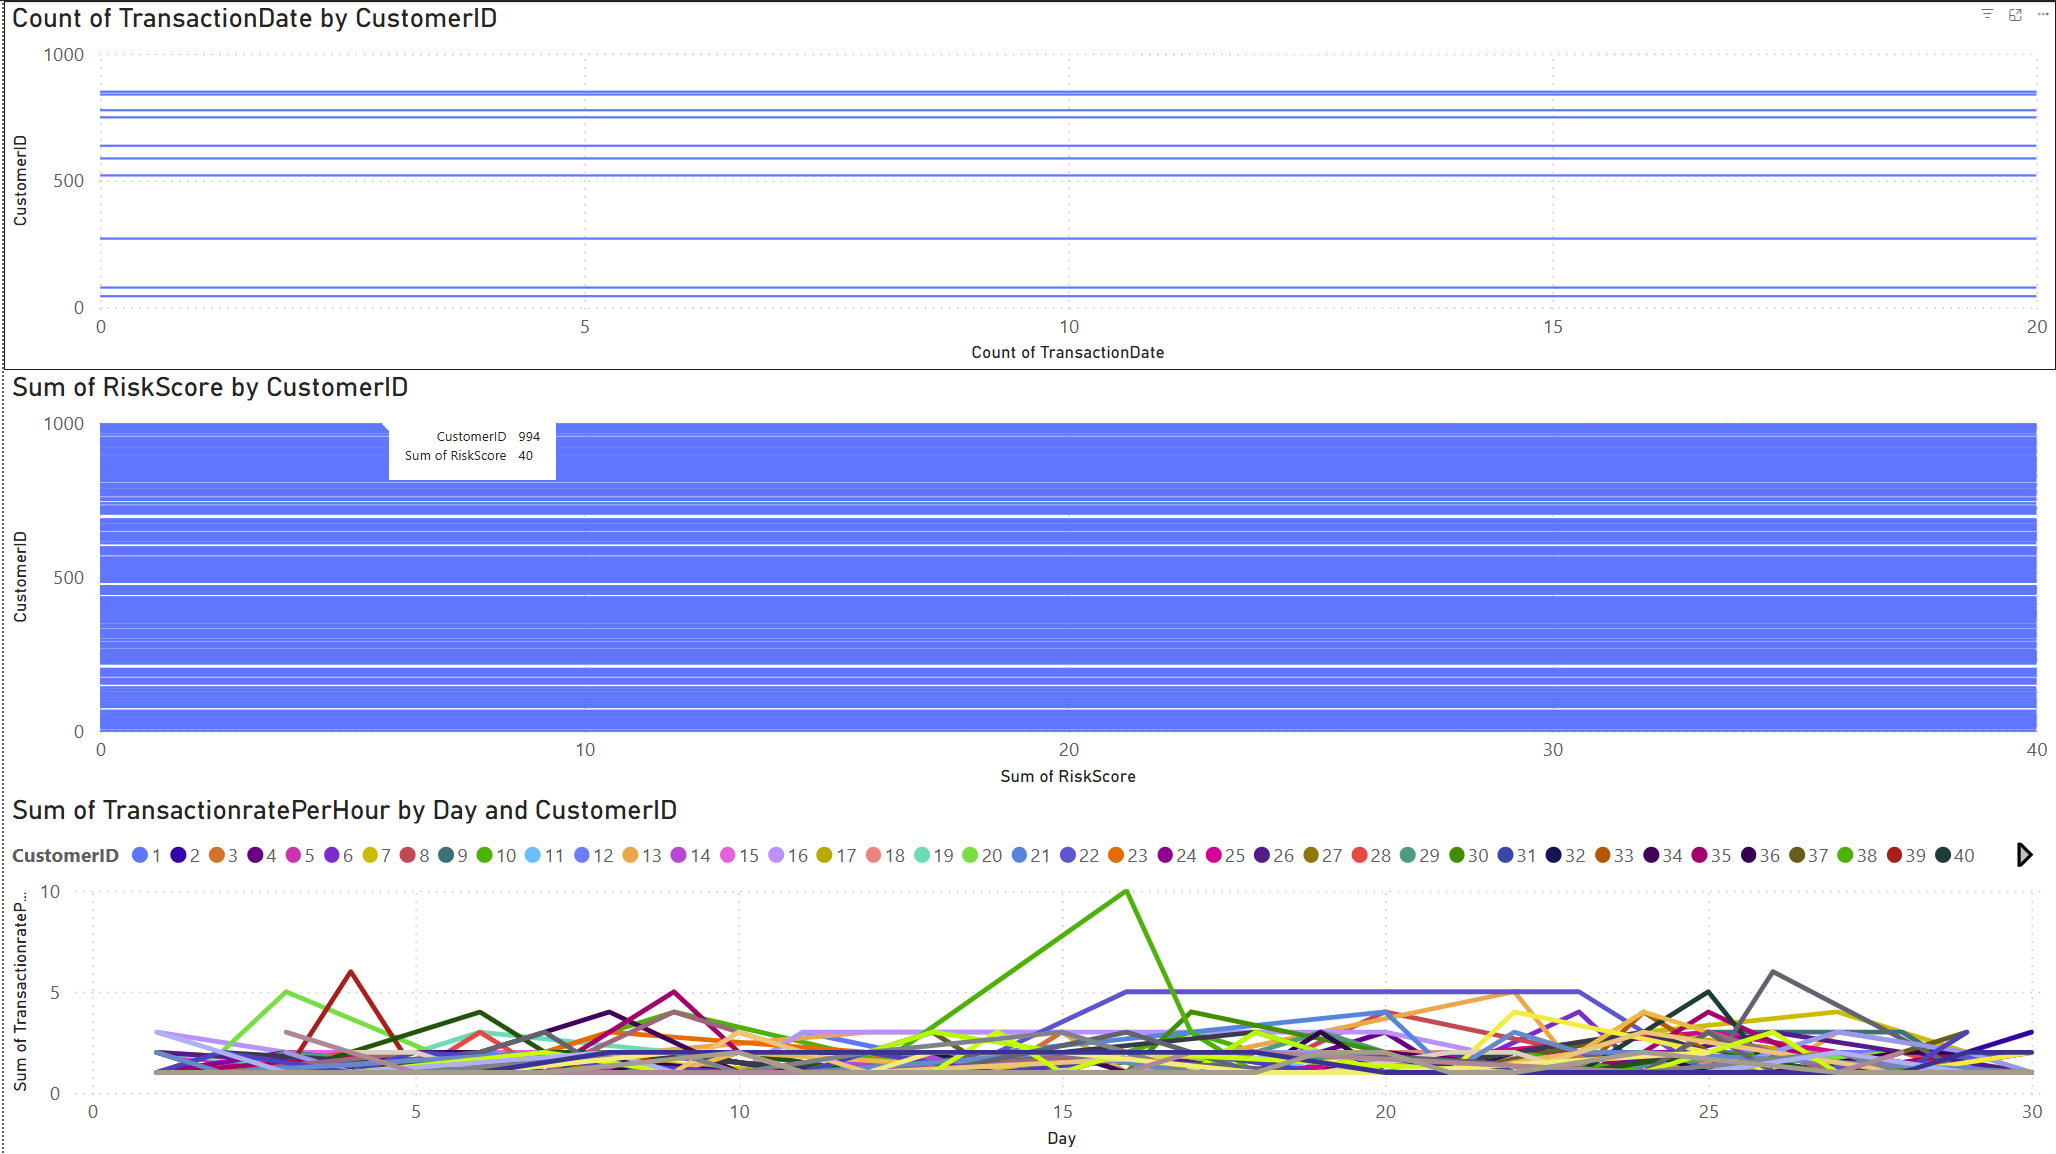

What the dashboard file says about the page in this screenshot:
{"tool":"powerbi","page":{"name":"Page 1","canvas":[1280,720],"ordinal":0},"visuals":[{"type":"clusteredBarChart","fields":{"Category":["final_features.CustomerID"],"Y":["CountNonNull(final_features.TransactionDate)"]},"box":[0,0,1280,230],"z":0},{"type":"clusteredBarChart","fields":{"Category":["final_features.CustomerID"],"Y":["Sum(final_features.RiskScore)"]},"box":[0,230,1280,264],"z":1000},{"type":"lineChart","fields":{"Category":["final_features.TransactionDate.Variation.Date Hierarchy.Year","final_features.TransactionDate.Variation.Date Hierarchy.Quarter","final_features.TransactionDate.Variation.Date Hierarchy.Month","final_features.TransactionDate.Variation.Date Hierarchy.Day"],"Y":["Sum(final_features.TransactionratePerHour)"],"Series":["final_features.CustomerID"]},"box":[0,494,1280,226],"z":2000}]}

Visuals, with their boxes in screenshot pixels (x1, y1, x2, y2), scaled from the page's 1280x720 canvas onto the 2056x1154 screenshot:
clusteredBarChart - final_features.CustomerID x CountNonNull(final_features.TransactionDate): {"left": 0, "top": 0, "right": 2055, "bottom": 369}
clusteredBarChart - final_features.CustomerID x Sum(final_features.RiskScore): {"left": 0, "top": 369, "right": 2055, "bottom": 792}
lineChart - final_features.TransactionDate.Variation.Date Hierarchy.Year x final_features.TransactionDate.Variation.Date Hierarchy.Quarter: {"left": 0, "top": 792, "right": 2055, "bottom": 1153}
